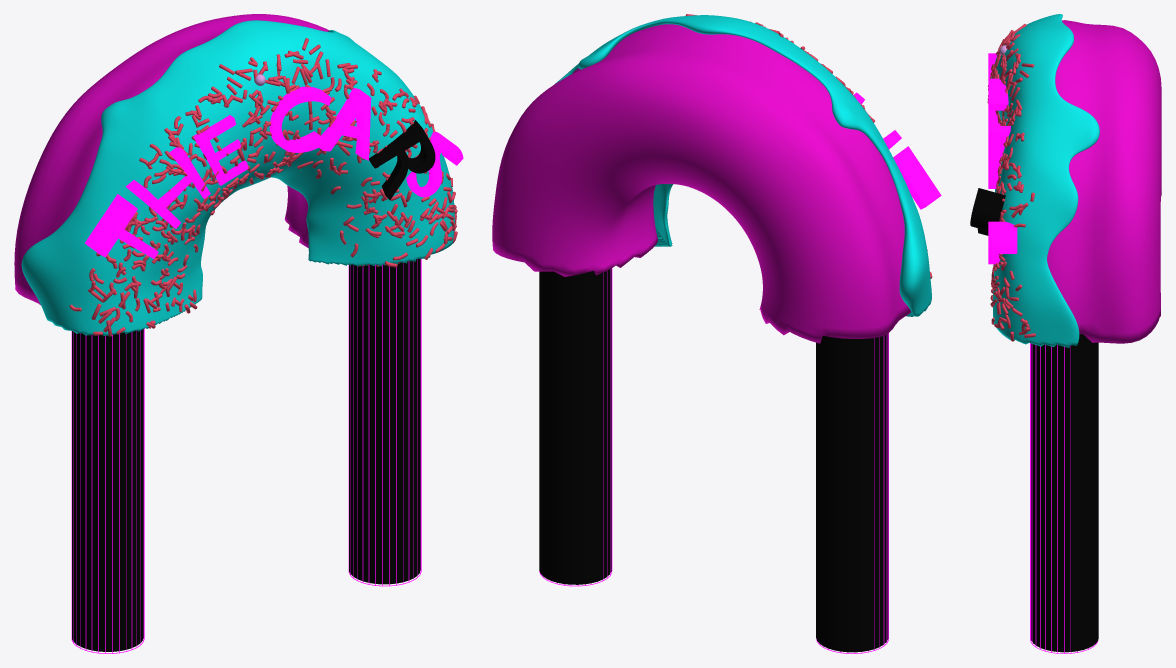
The model's file is donutneoncyan_gatev001.fbx.
The picture shows the model from 3 angles, left to right: view 1: azimuth 30°, elevation 25°; view 2: azimuth 150°, elevation 25°; view 3: azimuth 270°, elevation 25°; orthographic projection. The views are drawn at different scales.
Parts seen in each view (by area): view 1: icing_2fuck, Cylinder.003, Cylinder.002, donut, Text, Cylinder.001, Cylinder, Text.001; view 2: donut, Cylinder.002, Cylinder.003, icing_2fuck, Cylinder, Text, Cylinder.001; view 3: donut, Cylinder.003, icing_2fuck, Cylinder.001, Text, Text.001.
Part boxes in pixels (left/top/right/bottom): icing_2fuck: left=21, top=20, right=454, bottom=335; Cylinder.003: left=349, top=259, right=420, bottom=584; Cylinder.002: left=72, top=329, right=143, bottom=651; donut: left=14, top=14, right=328, bottom=305; Text: left=84, top=86, right=463, bottom=258; Cylinder.001: left=348, top=259, right=421, bottom=586; Cylinder: left=71, top=329, right=144, bottom=653; Text.001: left=369, top=120, right=435, bottom=200; donut: left=492, top=24, right=911, bottom=343; Cylinder.002: left=816, top=333, right=888, bottom=652; Cylinder.003: left=539, top=268, right=611, bottom=584; icing_2fuck: left=555, top=15, right=931, bottom=316; Cylinder: left=816, top=333, right=888, bottom=653; Text: left=853, top=92, right=941, bottom=209; Cylinder.001: left=539, top=268, right=612, bottom=586; donut: left=1047, top=20, right=1161, bottom=343; Cylinder.003: left=1031, top=334, right=1098, bottom=652; icing_2fuck: left=991, top=14, right=1099, bottom=347; Cylinder.001: left=1030, top=343, right=1098, bottom=653; Text: left=988, top=53, right=1017, bottom=264; Text.001: left=970, top=188, right=1005, bottom=235.
Size of the model in its own units: 98.8 by 134 by 42.73.
